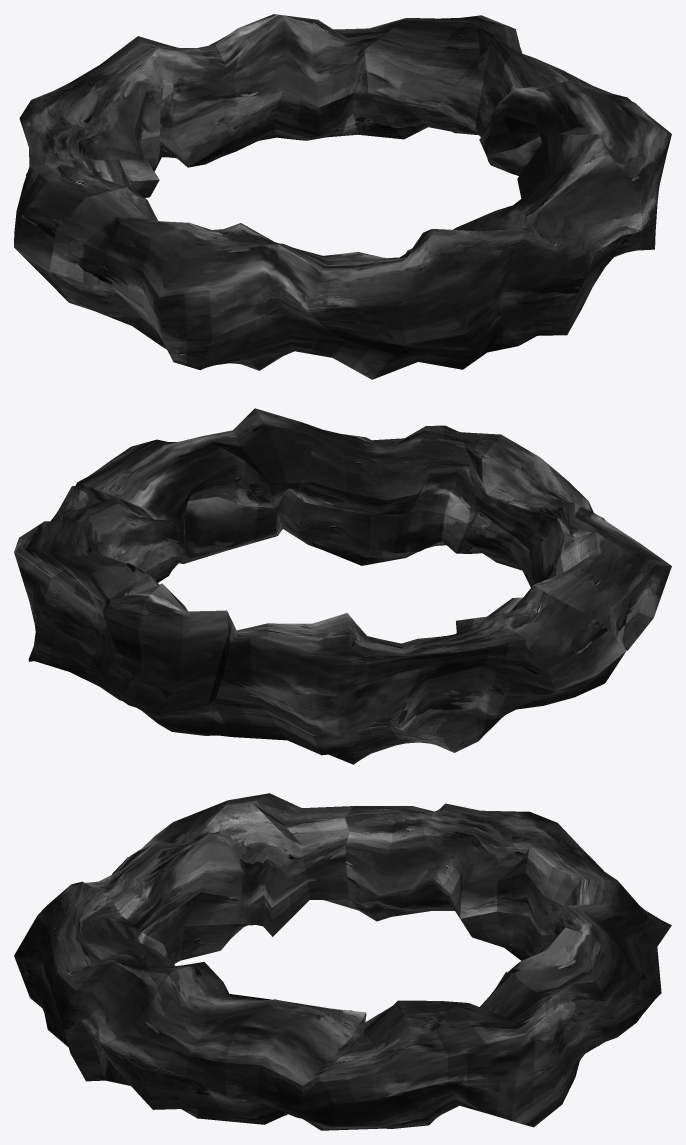
Rendered from smoke.obj.
The picture shows the model from 3 angles, top to bottom: view 1: azimuth 30°, elevation 25°; view 2: azimuth 150°, elevation 25°; view 3: azimuth 270°, elevation 25°; orthographic projection. The views are drawn at different scales.
Parts seen in each view (by area): view 1: Torus; view 2: Torus; view 3: Torus.
Part boxes in pixels (box(x1,y1,x2,y2)): Torus: box(14, 14, 671, 379); Torus: box(14, 408, 671, 764); Torus: box(14, 793, 671, 1130).
Size of the model in its own units: 2.57 by 0.6254 by 2.58.
Materials: 1 (1 with a texture image).
